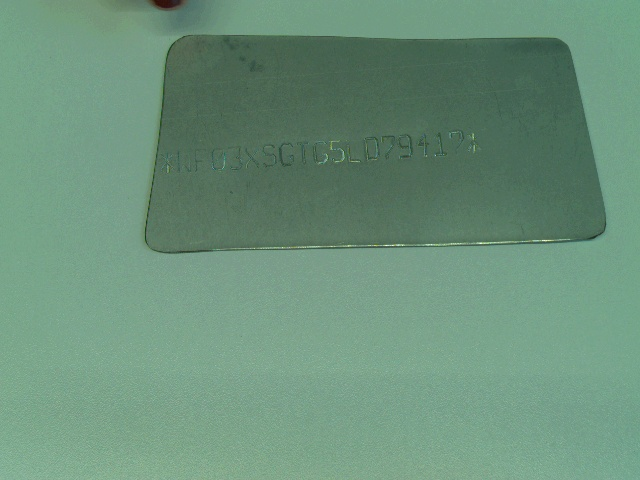0: (209, 147, 228, 172)
1: (433, 131, 450, 157)
3: (228, 145, 244, 170)
4: (416, 132, 431, 158)
5: (328, 138, 347, 165)
7: (379, 133, 397, 163), (449, 128, 466, 157)
9: (397, 133, 415, 159)
d: (363, 135, 381, 163)
f: (192, 146, 206, 172)
g: (312, 139, 330, 166), (278, 141, 295, 167)
l: (346, 138, 362, 163)
s: (261, 143, 278, 168)
t: (295, 139, 310, 165)
w: (176, 148, 193, 173)
x: (244, 145, 261, 169)
